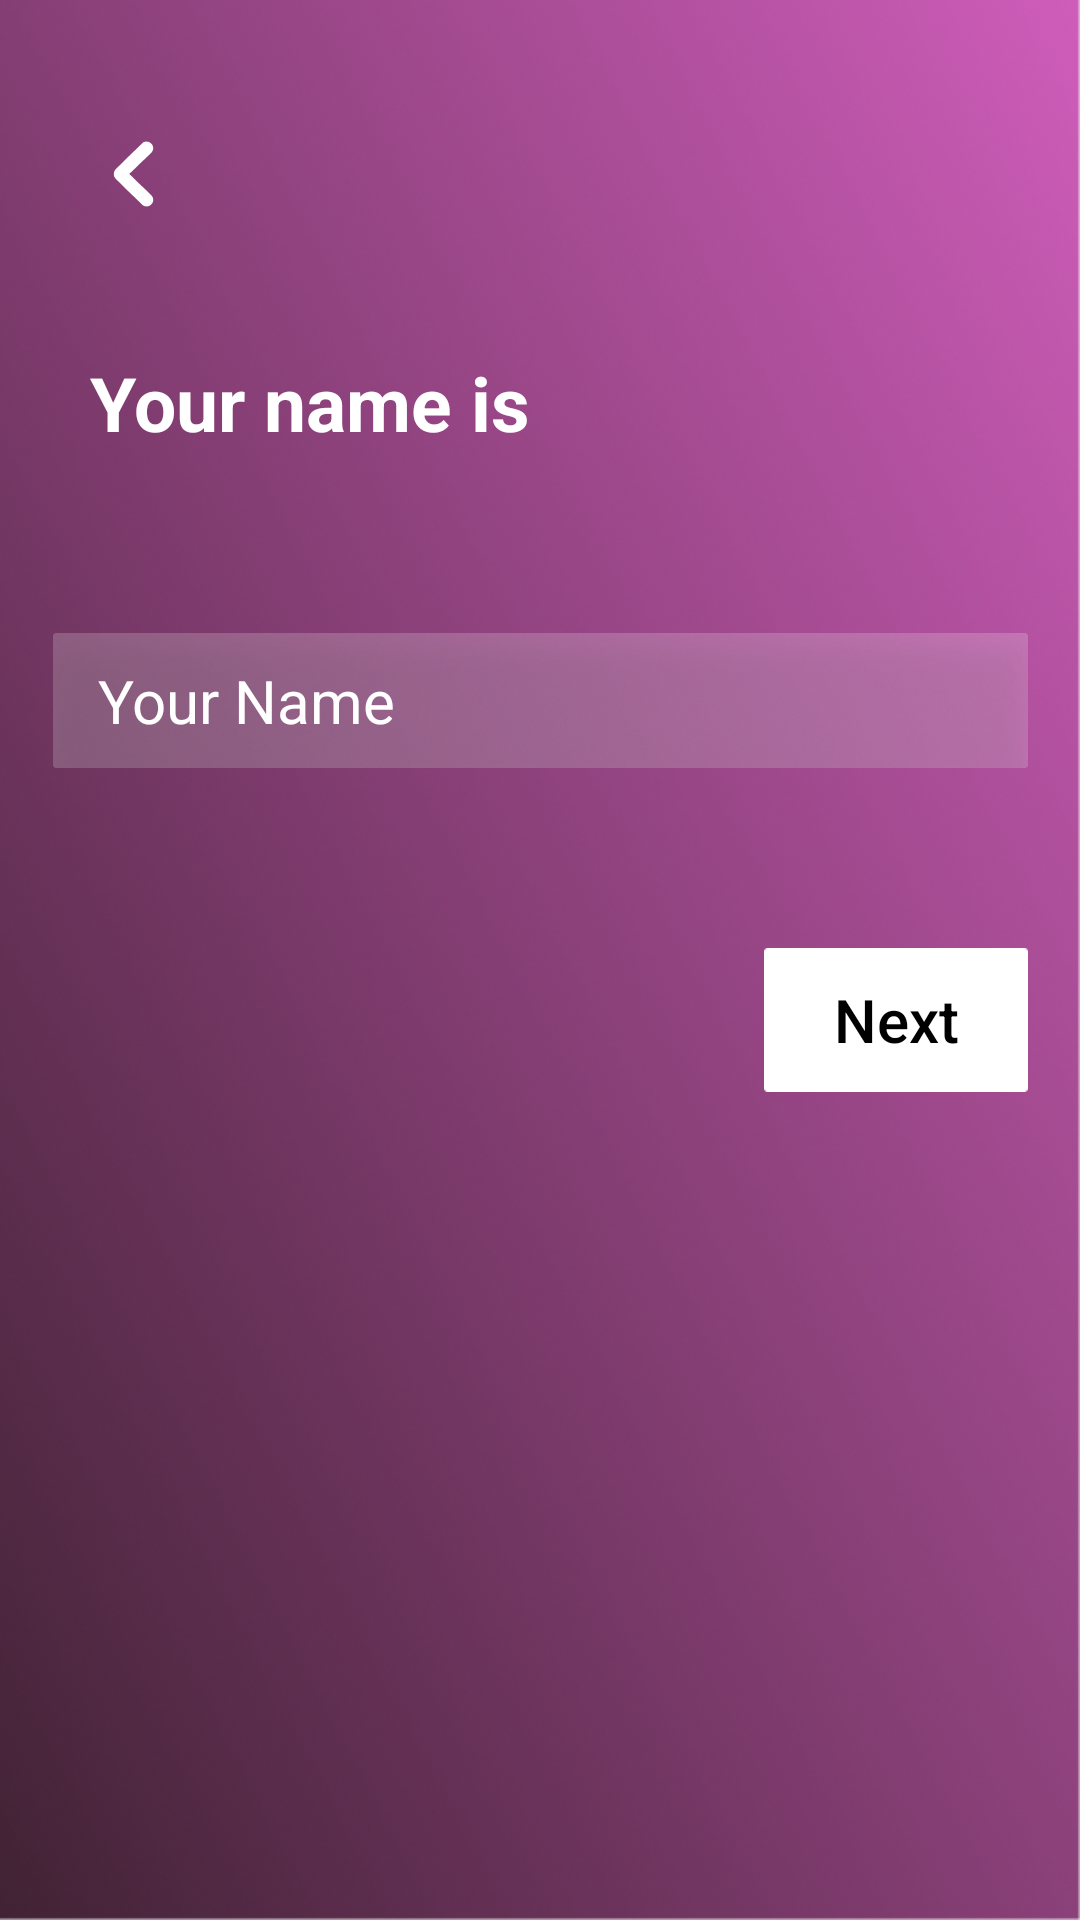

Screen size 1080x1920. Icon name, then its center in pixels as (x=x, y=y):
back: (x=133, y=174)
